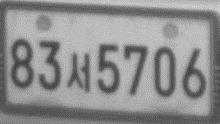0: (153, 44, 177, 98)
3: (38, 39, 61, 89)
5: (97, 43, 121, 93)
6: (182, 47, 207, 100)
7: (123, 44, 148, 97)
8: (9, 38, 34, 88)
서: (67, 51, 91, 93)
